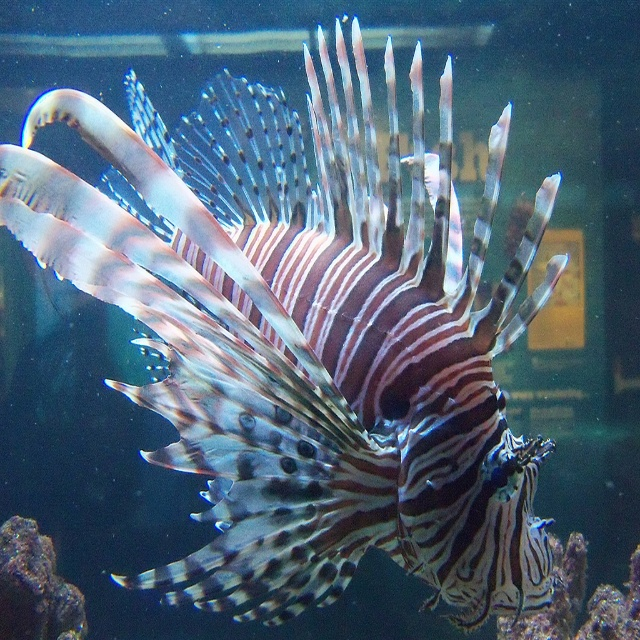Fish: (1, 13, 568, 629)
